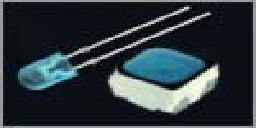LED: (15, 39, 106, 92)
